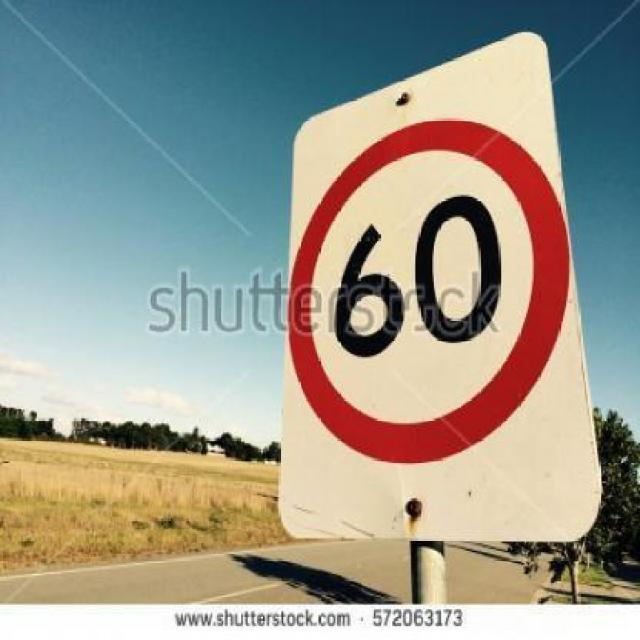Ograniczenie predkosci do 60: (300, 135, 555, 443)
